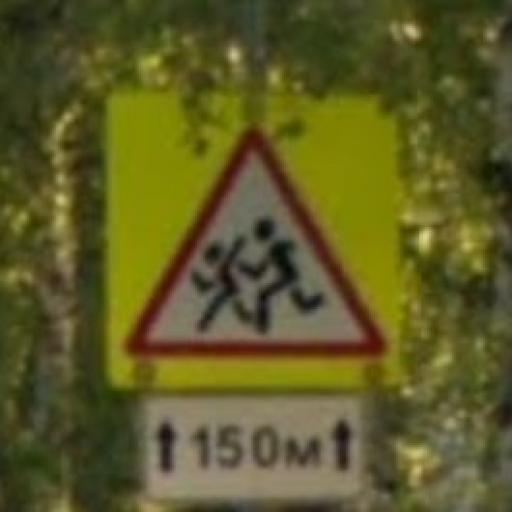traffic_sign: (123, 124, 393, 362)
